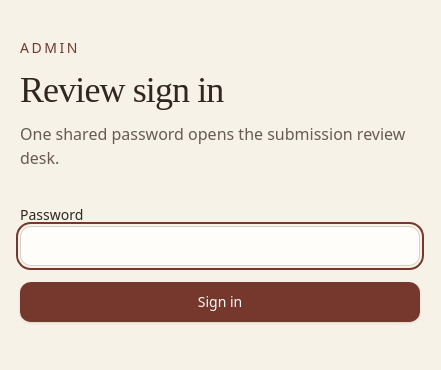
Test: AdminLoginPage › shows the server error when the password is wrong
Type "nope" into the password field labelled "Password".
click(220, 246); type("nope")  # box [20, 226, 420, 266]
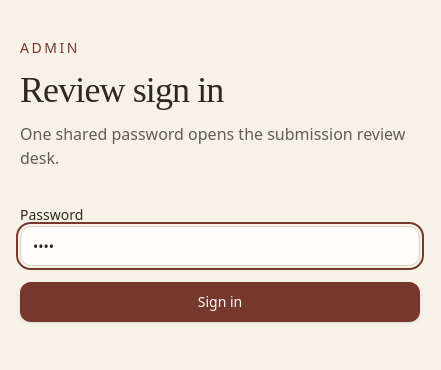
Click the button "Sign in".
click(220, 302)  # box [20, 282, 420, 322]
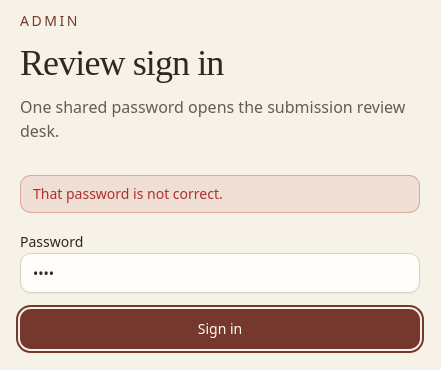
Check: the message reads "That password is not correct.", box [33, 184, 223, 203]
